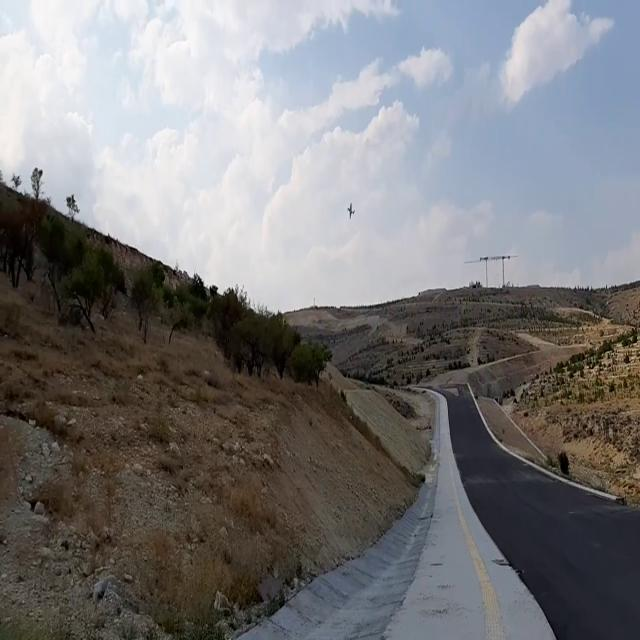iha: (349, 204, 355, 218)
